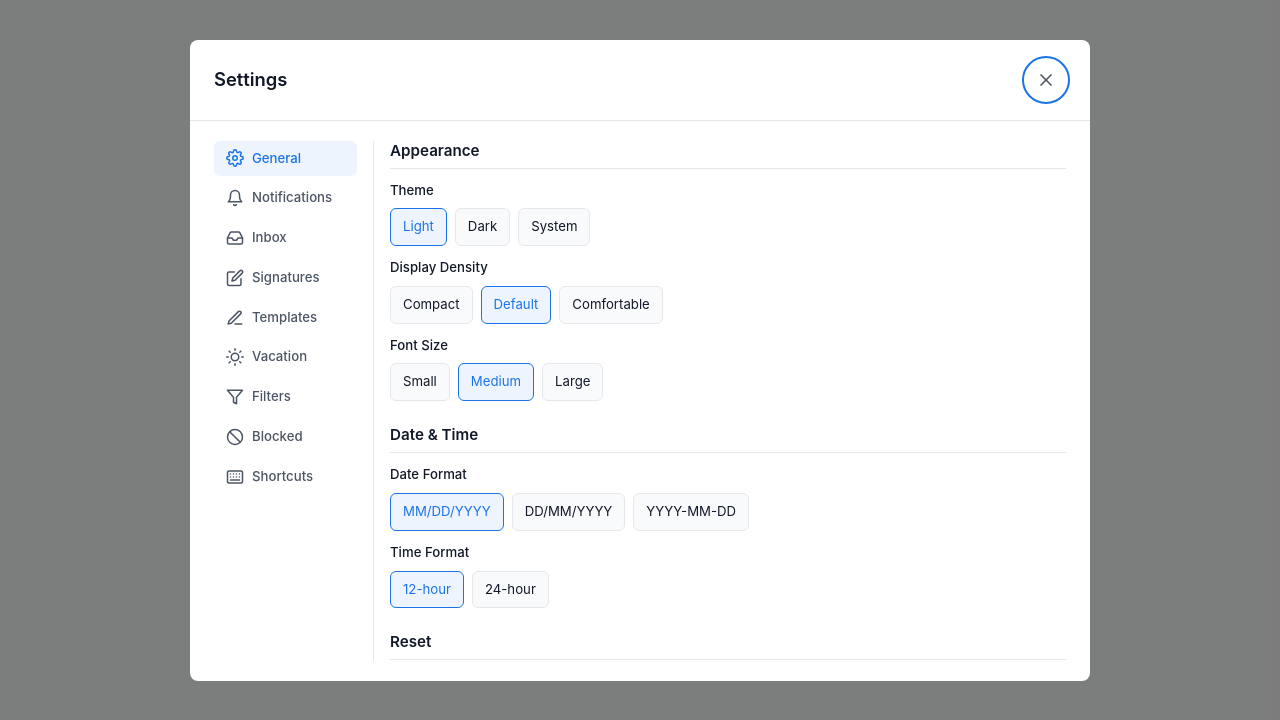
it: SettingsModal - Signature edit/delete (lines 491-592) › editing an existing signature shows the edit form
Click the button "Signatures". click: click(286, 278)
box: [214,260,357,296]
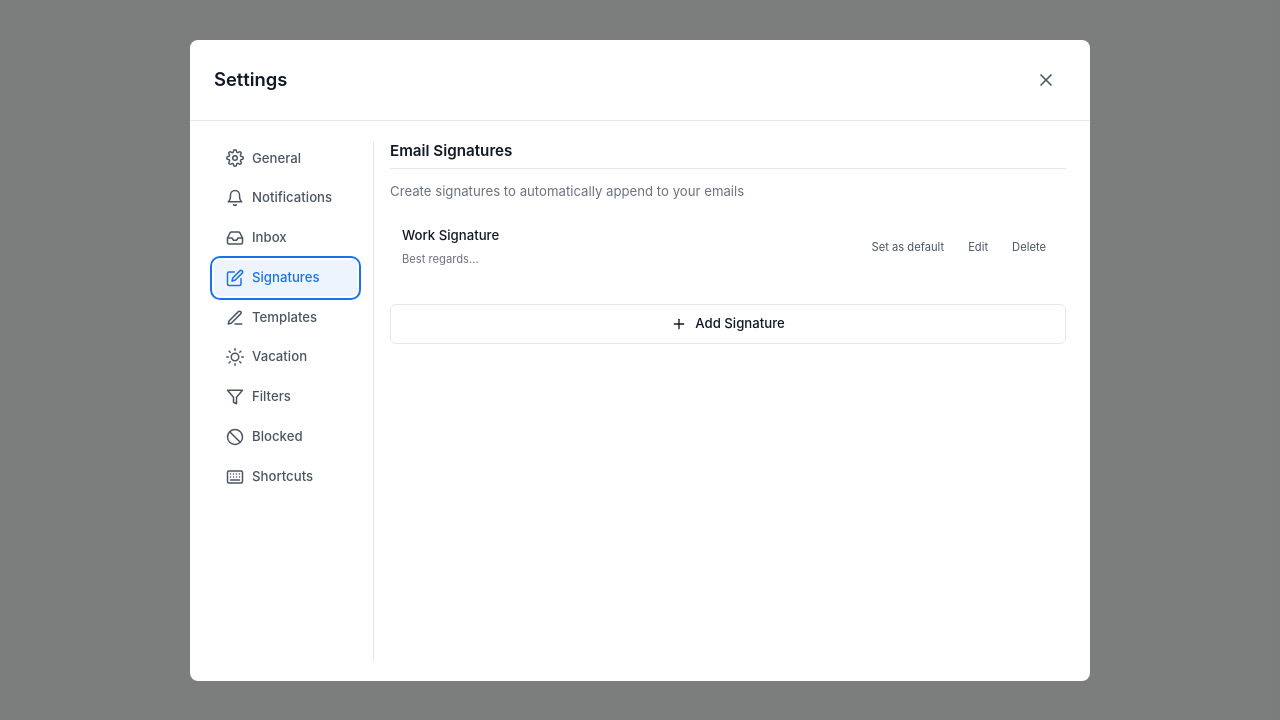
Expected: the text "Work Signature" is shown, [402,227,499,243]
Click the button "Edit". click: click(978, 247)
box: [960,234,996,259]
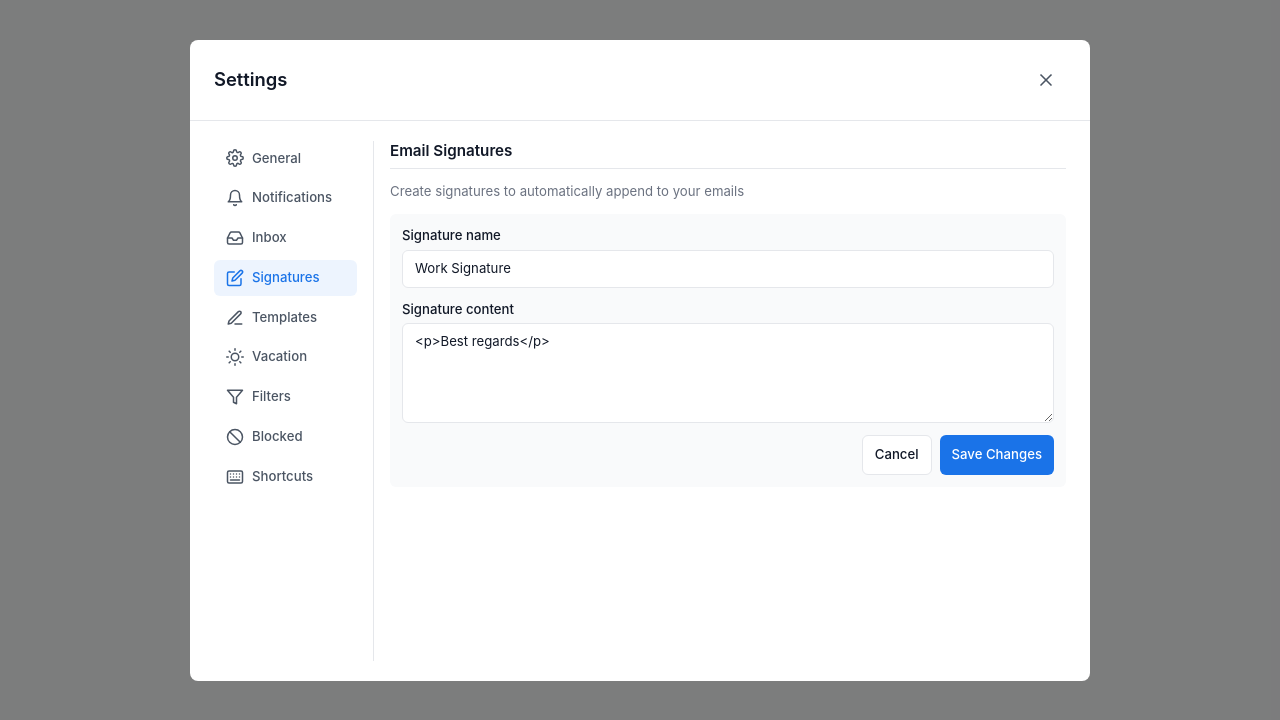
Expected: the button "Save Changes" is shown, [940,435,1054,475]
